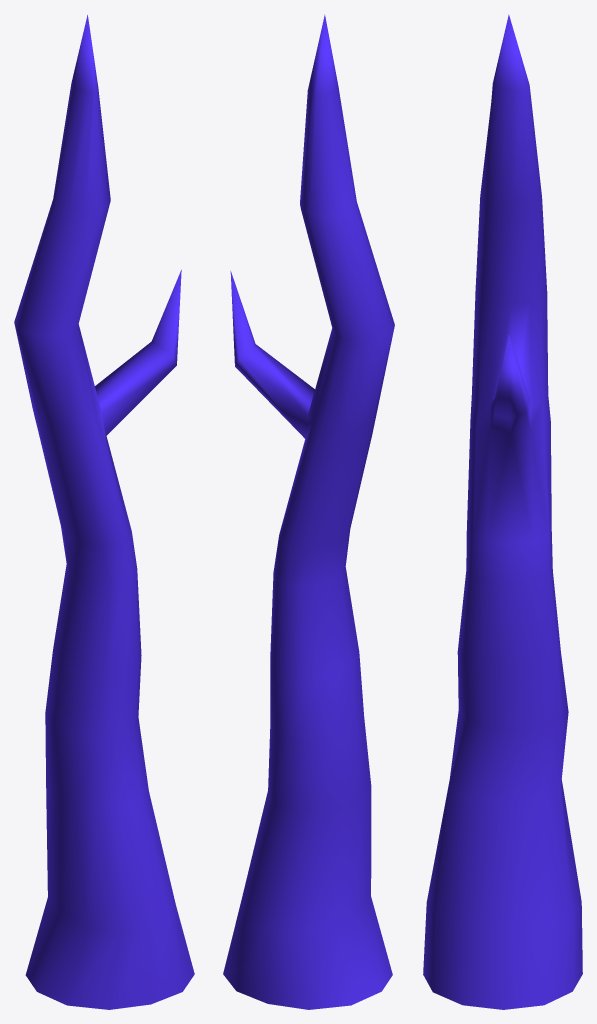
Rendered from TreeLP.FBX.
The picture shows the model from 3 angles, left to right: view 1: azimuth 30°, elevation 25°; view 2: azimuth 150°, elevation 25°; view 3: azimuth 270°, elevation 25°; orthographic projection.
Visible parts, largest first — view 1: Tree; view 2: Tree; view 3: Tree.
Part boxes in pixels (<box>): Tree: <box>14,15,194,1009</box>; Tree: <box>223,14,394,1009</box>; Tree: <box>423,14,582,1009</box>.
Bounding box in the file's own units: 74.9 × 424 × 64.47.
